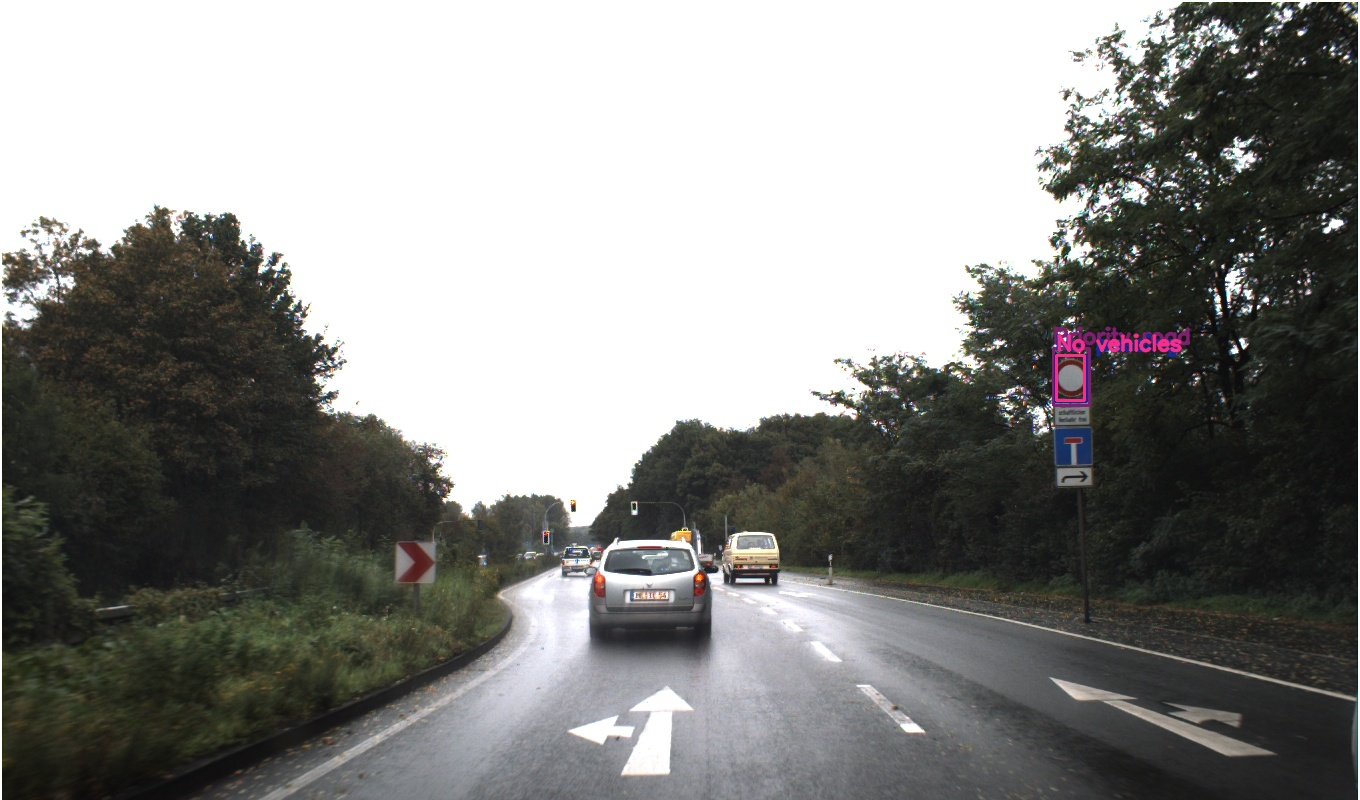Ahead only: (423, 449, 444, 470)
Priority road: (420, 419, 447, 446)
Yield: (718, 440, 739, 462)
